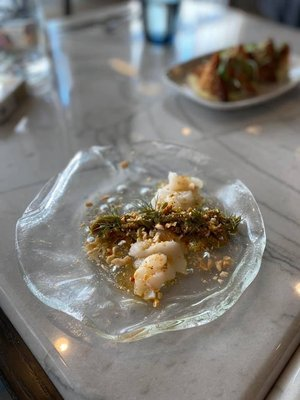pizza: (143, 0, 180, 44)
